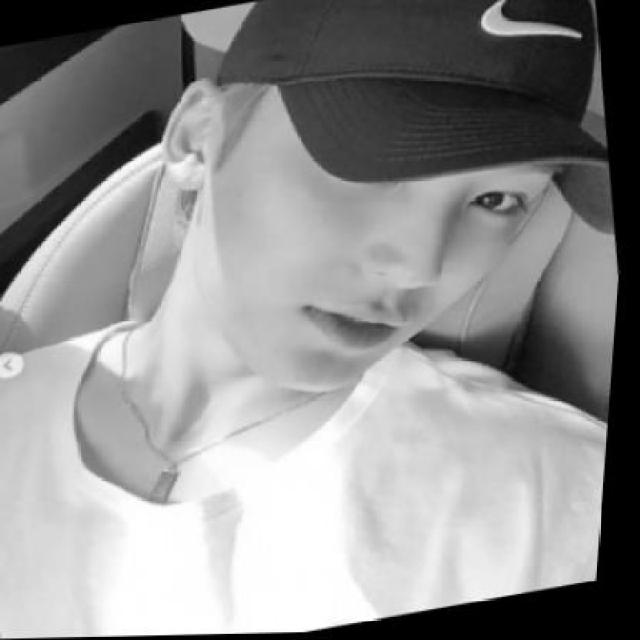hat: (197, 0, 615, 231)
